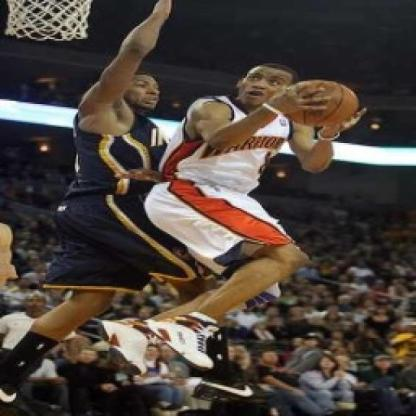basketball: (277, 74, 363, 132)
